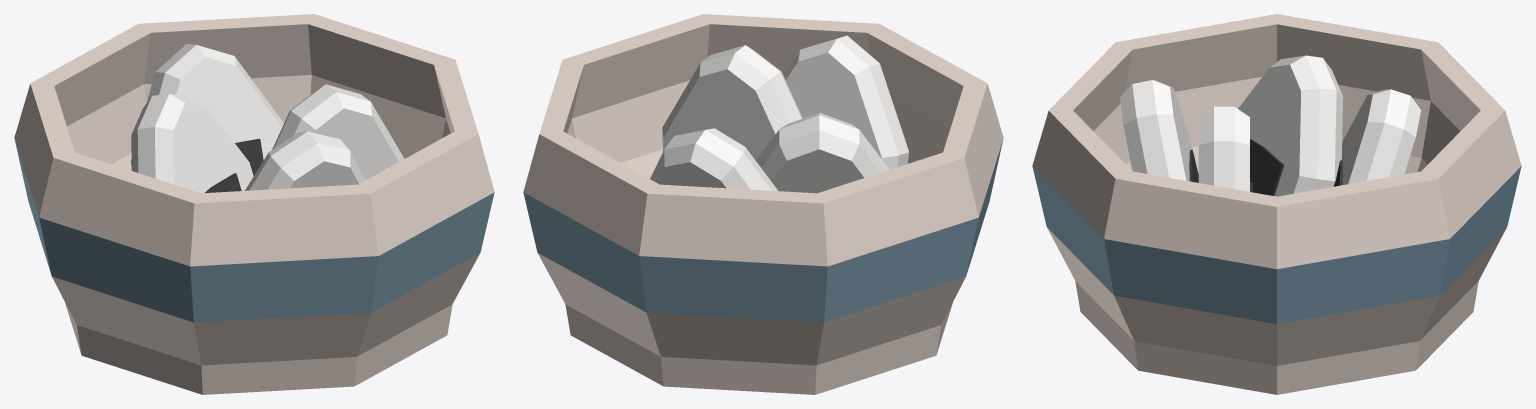
File: Plate_with_rice_cake.fbx
3 renders of one model, left to right at view 1: azimuth 30°, elevation 25°; view 2: azimuth 150°, elevation 25°; view 3: azimuth 270°, elevation 25°, orthographic.
Parts seen in each view (by area): view 1: Plate_with_rice_cake; view 2: Plate_with_rice_cake; view 3: Plate_with_rice_cake.
Boxes of the visible parts, x1,y1,x2,y2 form: Plate_with_rice_cake: [14, 14, 494, 394]; Plate_with_rice_cake: [523, 14, 1003, 394]; Plate_with_rice_cake: [1032, 14, 1521, 394].
Size of the model in its own units: 35.91 by 35.91 by 19.28.
